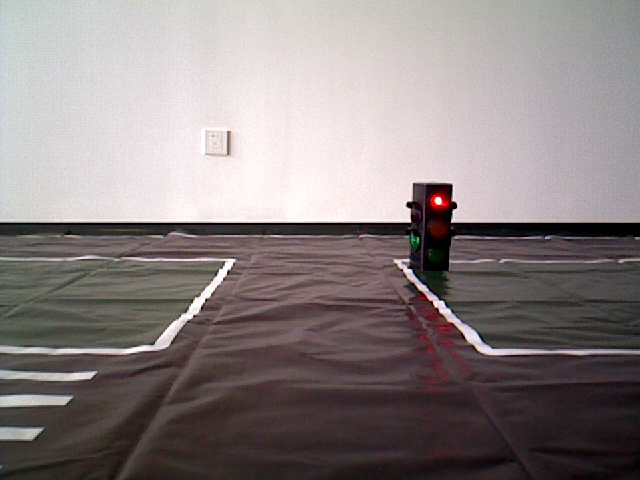red: (411, 184, 449, 271)
